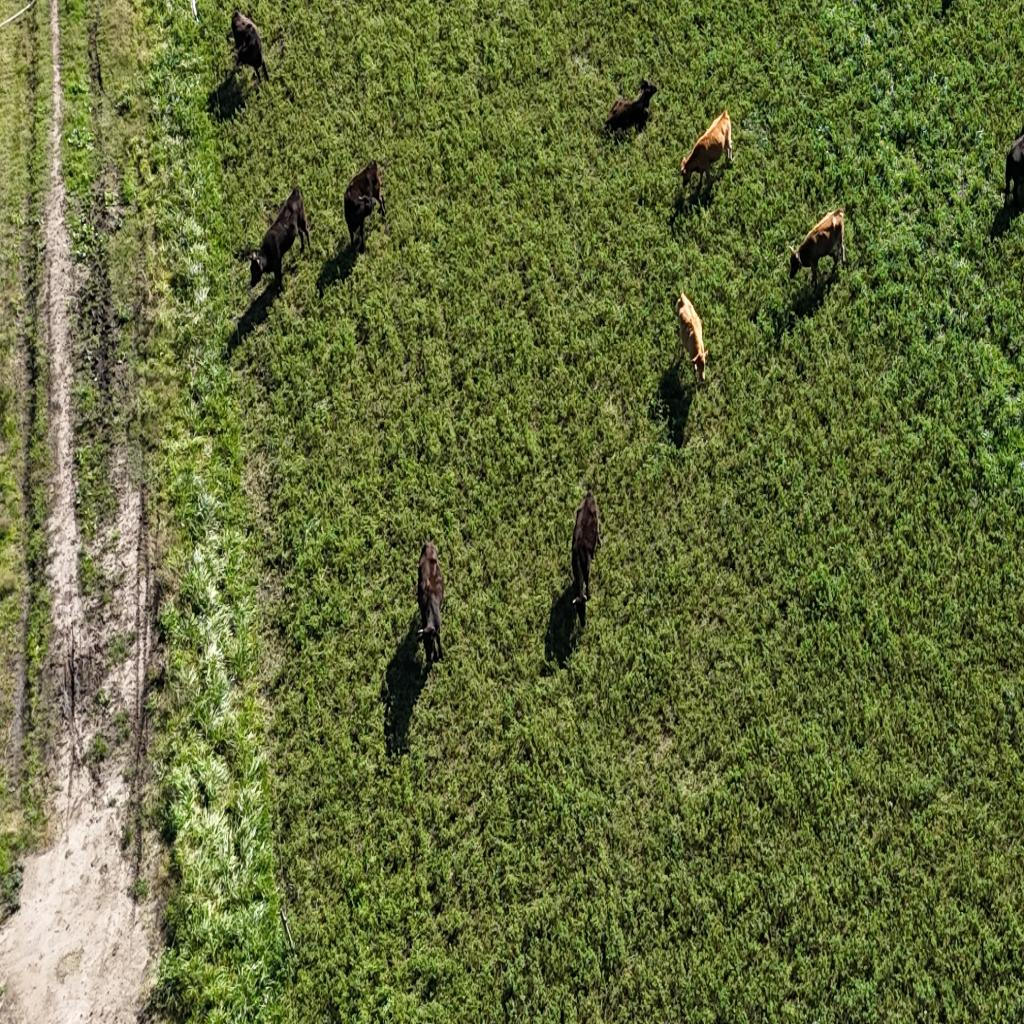cow: (248, 187, 312, 295), (785, 206, 847, 293), (678, 103, 732, 195), (570, 489, 604, 627), (344, 162, 387, 259), (416, 540, 446, 668), (229, 8, 271, 87), (676, 290, 707, 383), (605, 81, 656, 136), (1003, 128, 1024, 214)
